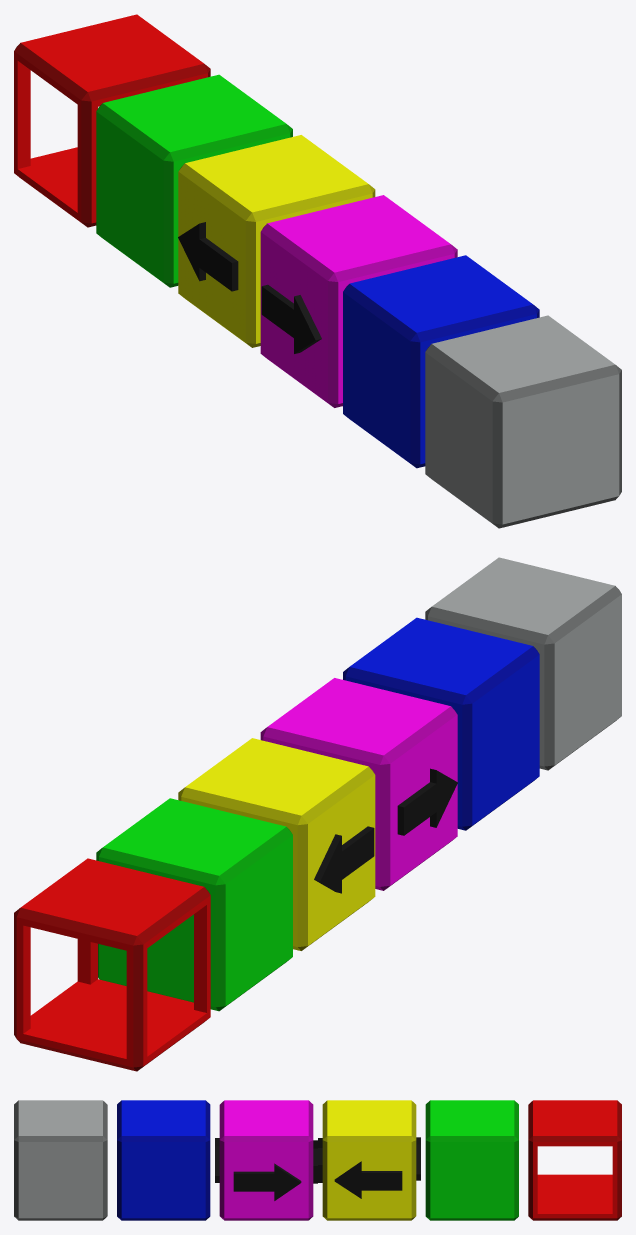
Rendered from simple-blocks.glb.
3 renders of one model, top to bottom at view 1: azimuth 30°, elevation 25°; view 2: azimuth 150°, elevation 25°; view 3: azimuth 270°, elevation 25°, orthographic. The views are drawn at different scales.
Visible parts, largest first — view 1: 06-wall-block, 04-right-block, 03-left-block, 02-floor-block, 05-start-block, 01-end-block; view 2: 01-end-block, 02-floor-block, 04-right-block, 03-left-block, 06-wall-block, 05-start-block; view 3: 04-right-block, 03-left-block, 06-wall-block, 02-floor-block, 05-start-block, 01-end-block.
Part boxes in pixels (box(x1,y1,x2,y2)): 06-wall-block: box(425, 315, 621, 528); 04-right-block: box(260, 195, 457, 407); 03-left-block: box(178, 135, 375, 347); 02-floor-block: box(96, 74, 292, 287); 05-start-block: box(343, 255, 539, 468); 01-end-block: box(14, 14, 210, 227); 01-end-block: box(14, 858, 210, 1071); 02-floor-block: box(96, 798, 292, 1011); 04-right-block: box(260, 678, 457, 890); 03-left-block: box(178, 738, 375, 950); 06-wall-block: box(425, 557, 621, 770); 05-start-block: box(343, 617, 539, 830); 04-right-block: box(215, 1100, 317, 1220); 03-left-block: box(318, 1100, 420, 1220); 06-wall-block: box(14, 1100, 107, 1220); 02-floor-block: box(425, 1100, 518, 1220); 05-start-block: box(117, 1100, 210, 1220); 01-end-block: box(528, 1100, 621, 1220).
Size of what is drawn, in the model's own units: 2.2 by 2 by 13.
